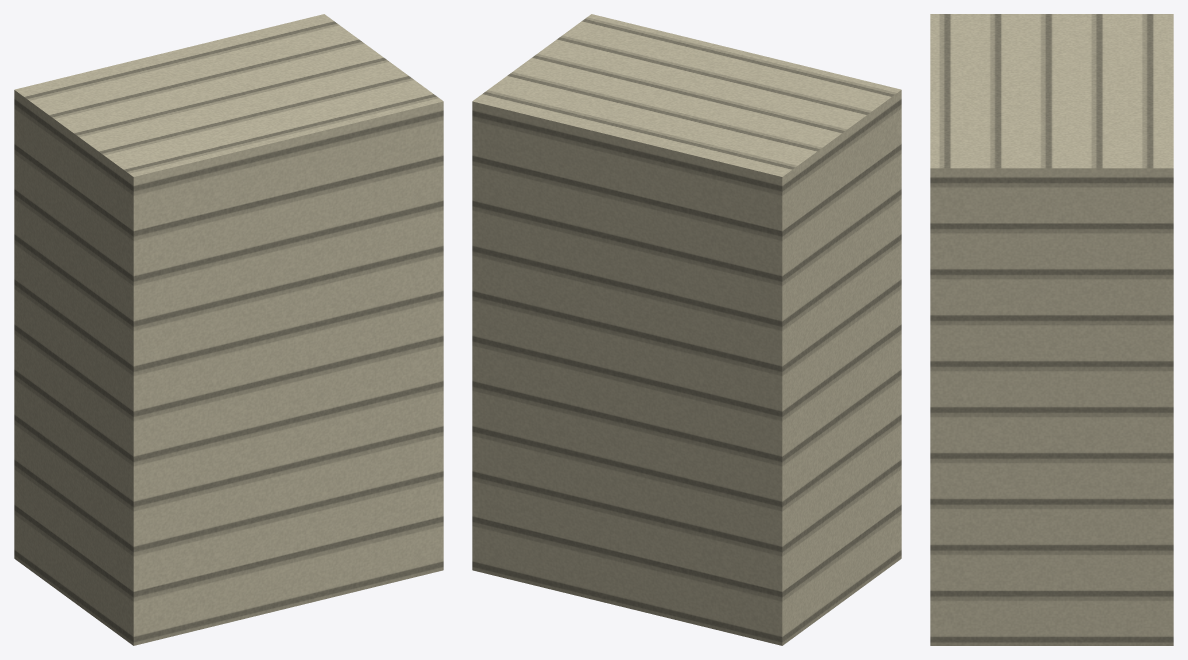
File: paint_mixer_can_display.glb
3 views of the same model, side by side, from view 1: azimuth 30°, elevation 25°; view 2: azimuth 150°, elevation 25°; view 3: azimuth 270°, elevation 25° (orthographic).
Parts seen in each view (by area): view 1: paint_mixer_can_display-col; view 2: paint_mixer_can_display-col; view 3: paint_mixer_can_display-col.
Boxes of the visible parts, bbox=[...] form: paint_mixer_can_display-col: bbox=[14, 14, 443, 645]; paint_mixer_can_display-col: bbox=[472, 14, 901, 645]; paint_mixer_can_display-col: bbox=[930, 14, 1173, 645].
Bounding box in the file's own units: 0.9 × 1.3 × 0.6.
1 material, 1 textured.
